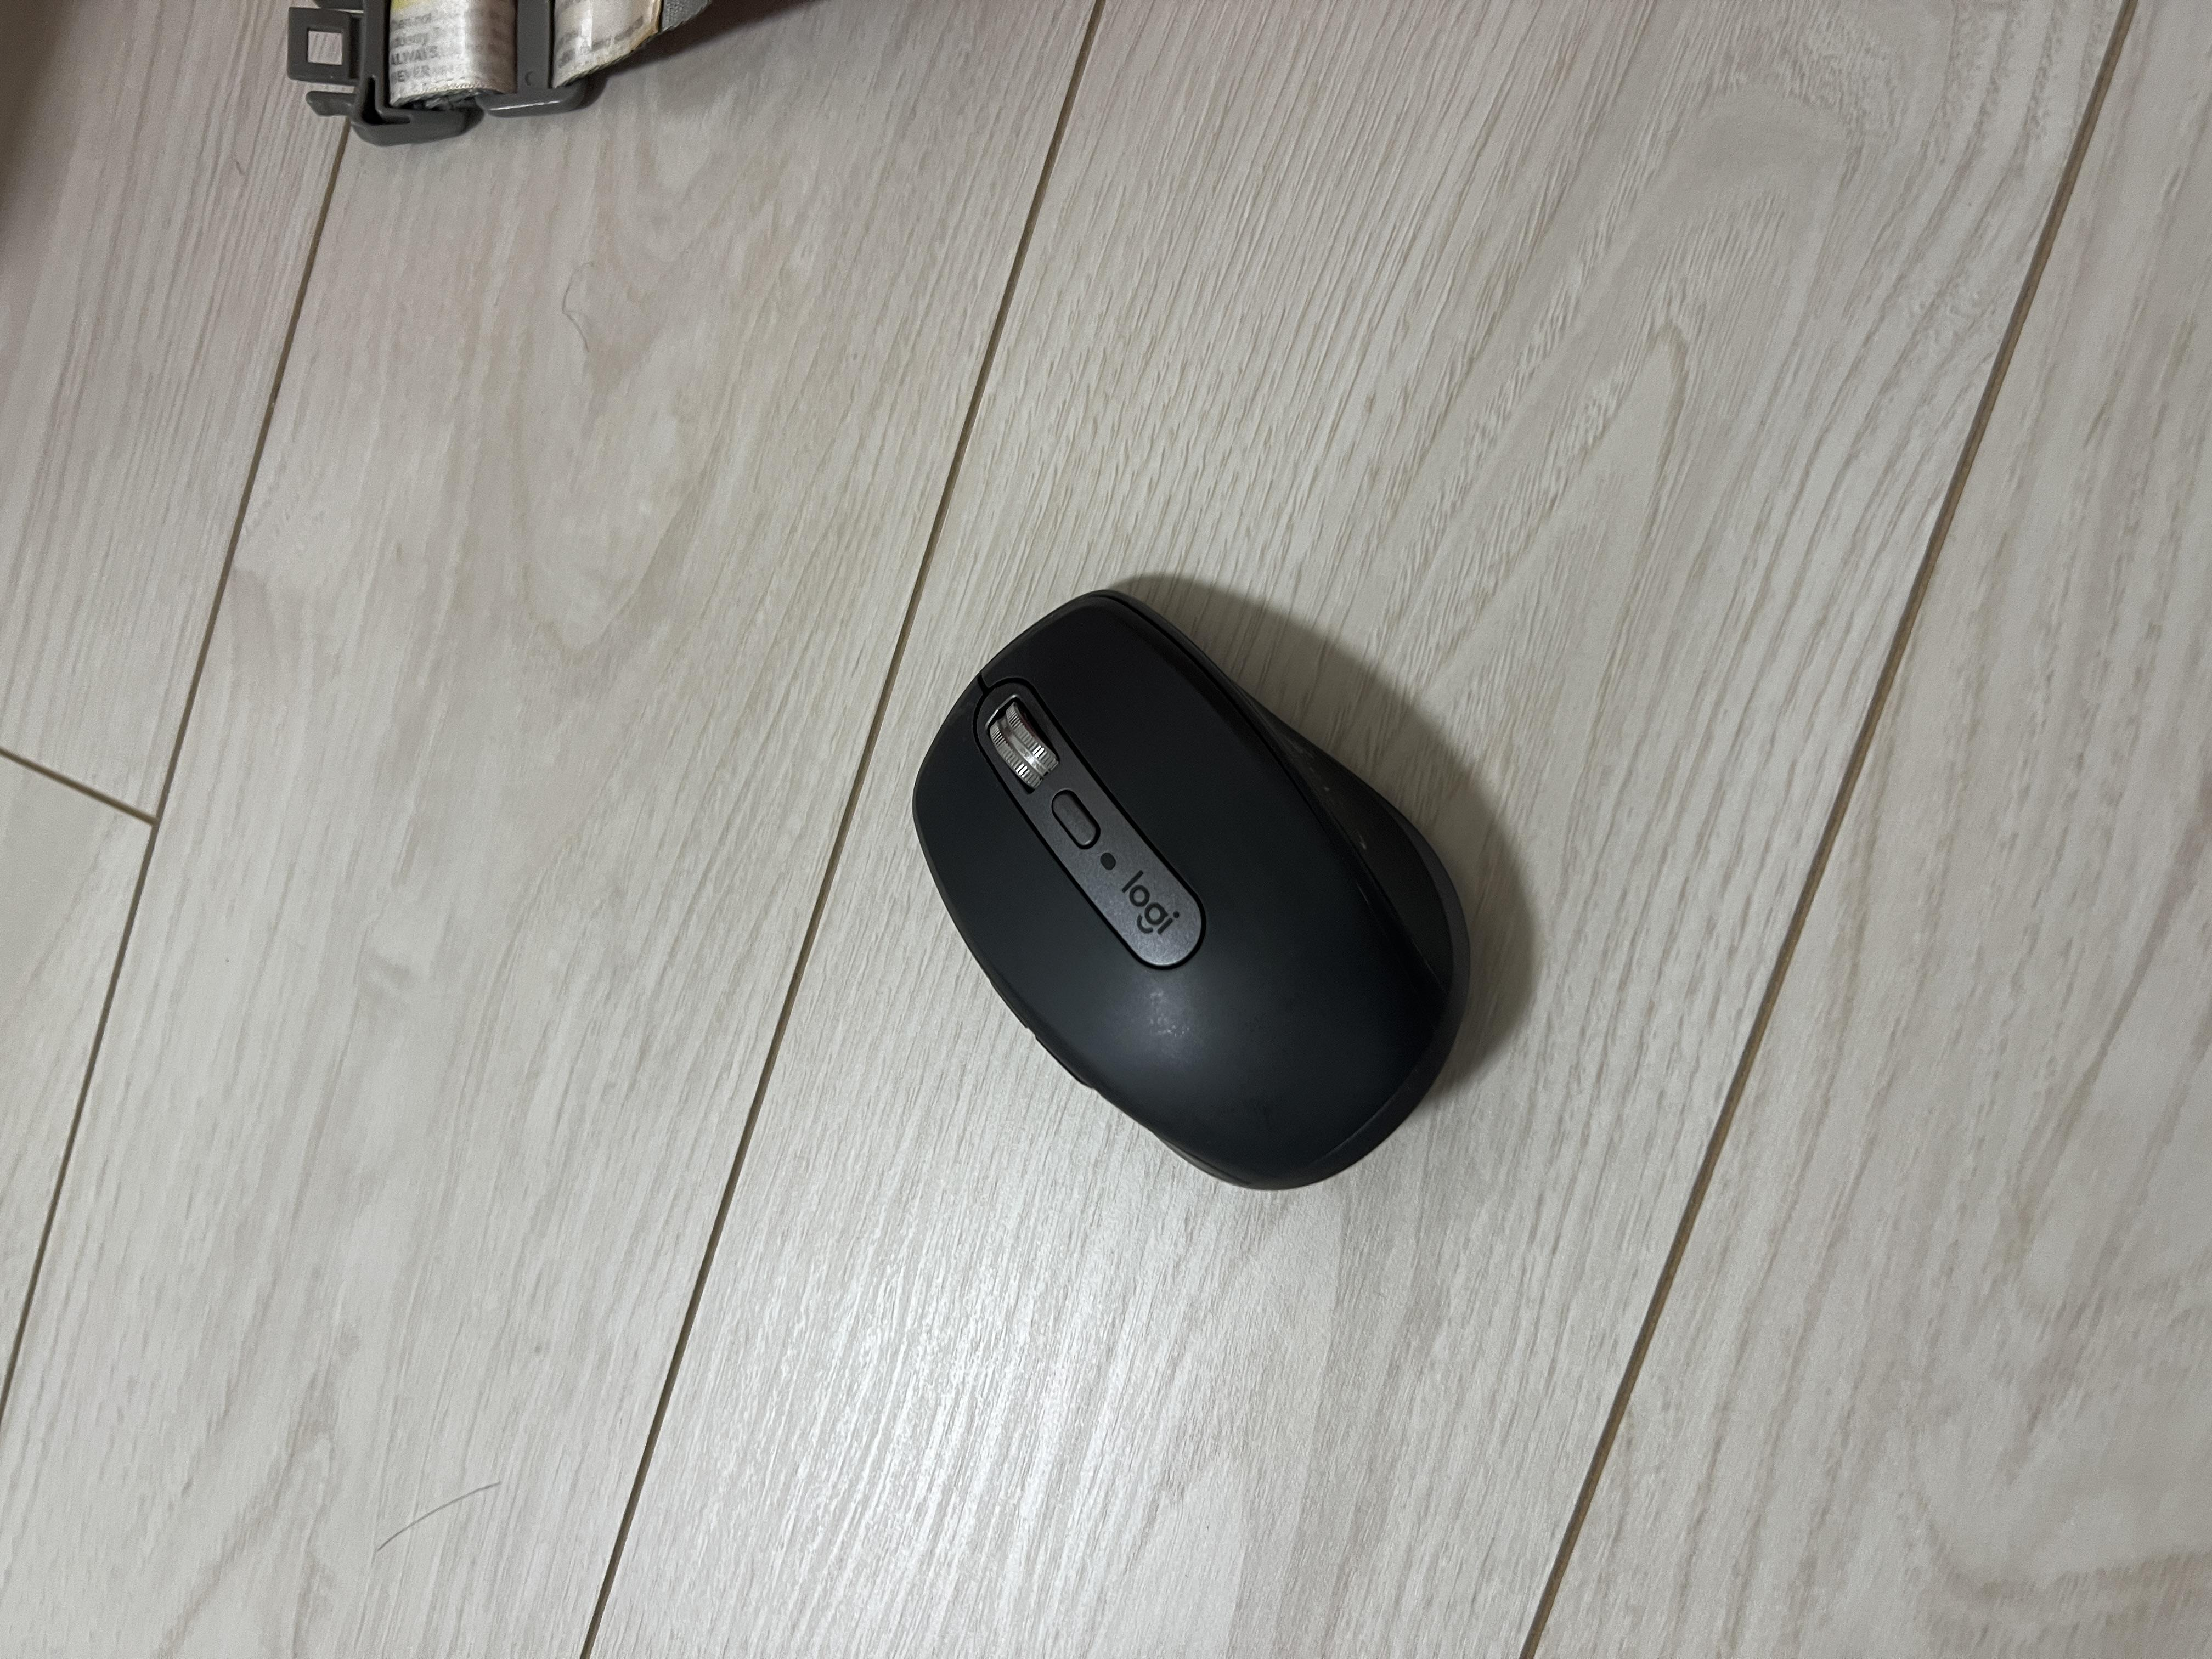mouse: (644, 683, 1433, 1110)
